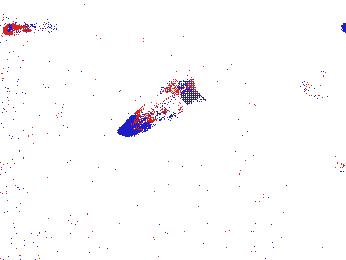X-ray fish: (294, 68, 344, 101)
red belly glassfish: (4, 19, 53, 36)
redtail glassfish: (119, 69, 203, 133)
